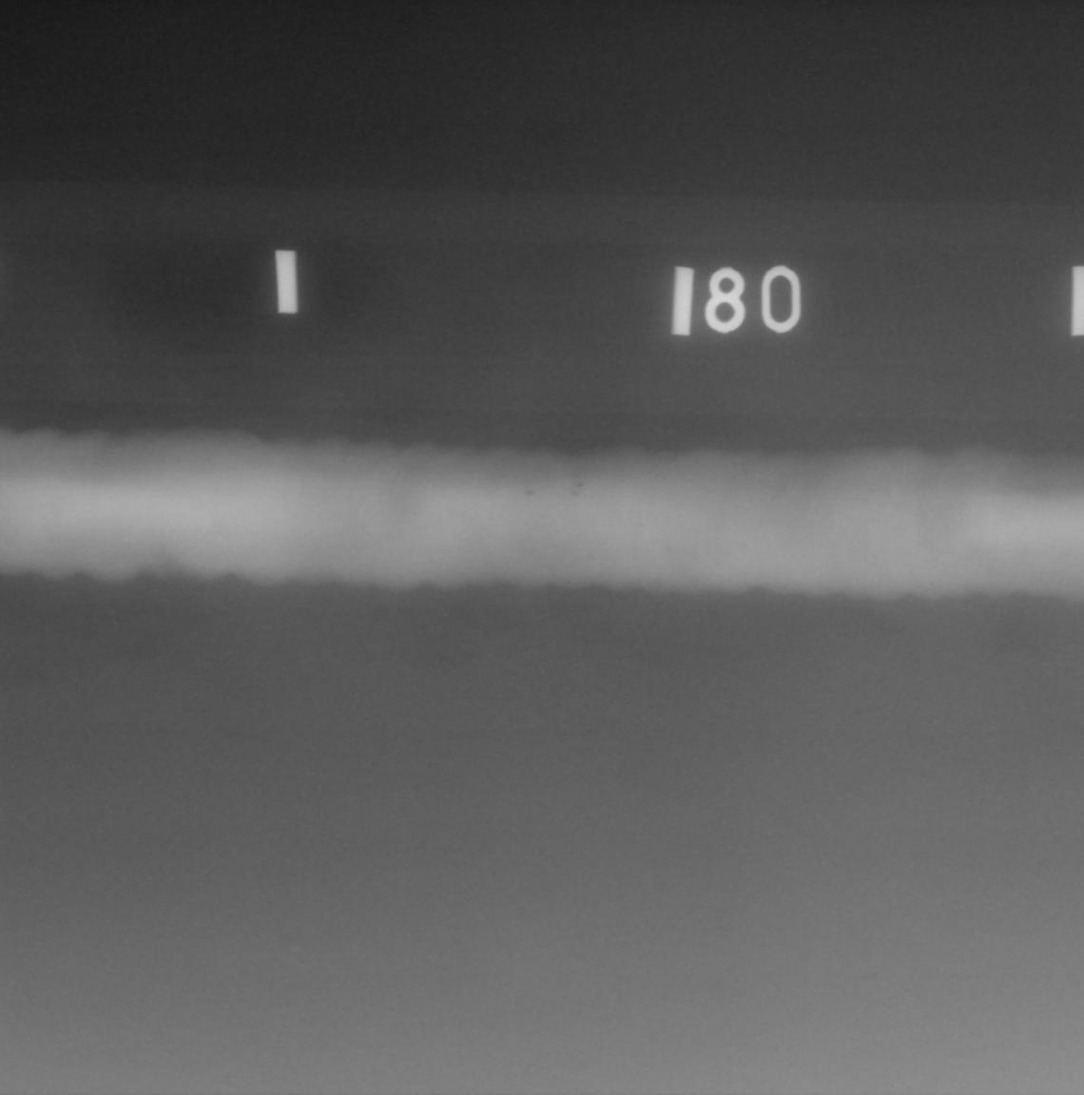Pore/Porosity: (570, 490, 579, 497), (576, 481, 585, 487), (525, 490, 533, 496), (573, 473, 579, 477)
